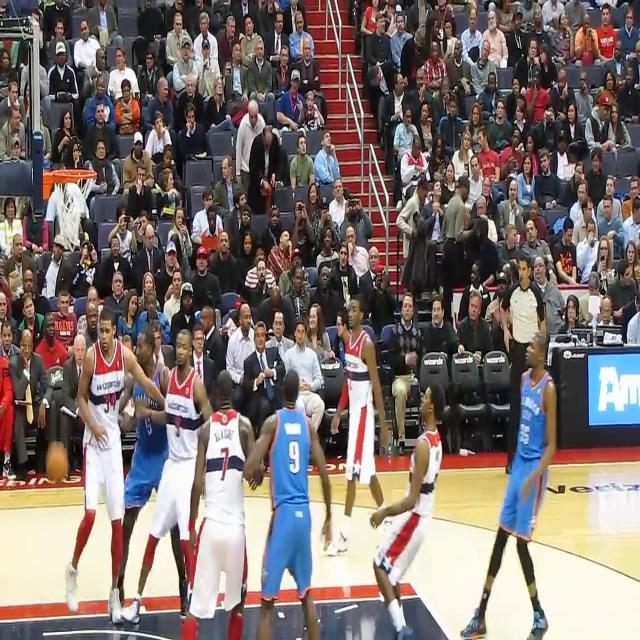ball: (45, 441, 70, 484)
